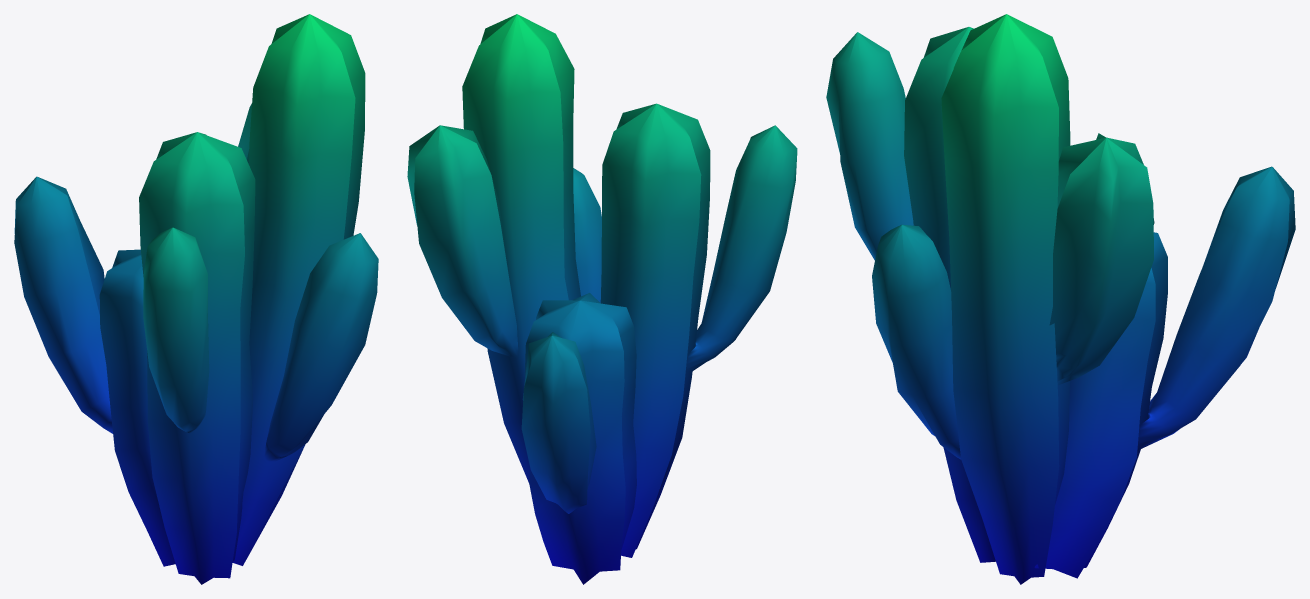
The model's file is Senita3.fbx.
3 renders of one model, left to right at view 1: azimuth 30°, elevation 25°; view 2: azimuth 150°, elevation 25°; view 3: azimuth 270°, elevation 25°, orthographic. The views are drawn at different scales.
Visible parts, largest first — view 1: Senita3_LOD0; view 2: Senita3_LOD0; view 3: Senita3_LOD0.
Part boxes in pixels (x1=…): Senita3_LOD0: x1=14, y1=14, x2=378, y2=584; Senita3_LOD0: x1=407, y1=14, x2=797, y2=584; Senita3_LOD0: x1=826, y1=14, x2=1295, y2=584.
Size of what is drawn, in the model's own units: 93.03 by 165 by 115.
